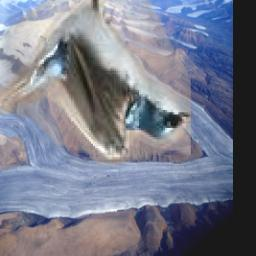Swallow: (0, 0, 191, 165)
